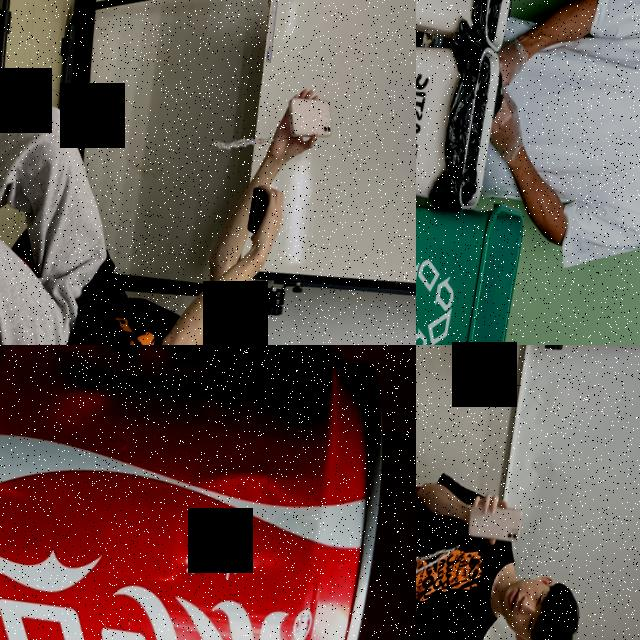can: (0, 345, 408, 640)
